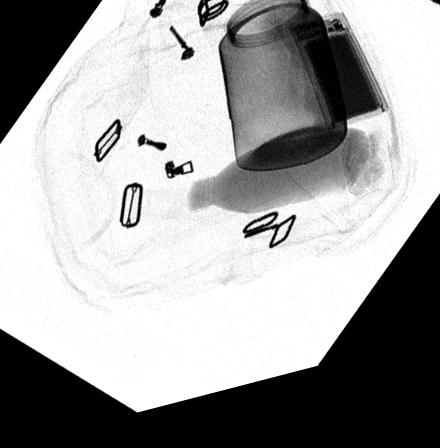Powerbank: (288, 27, 387, 147)
